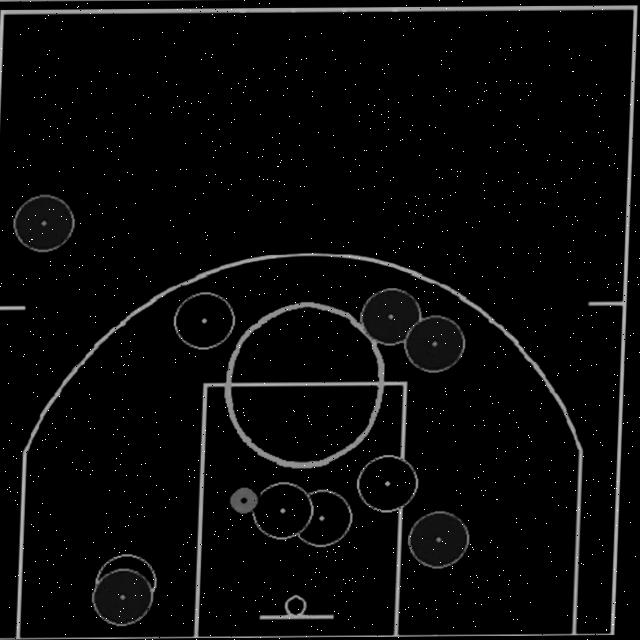Basketball: (230, 484, 262, 517)
Team_A: (96, 551, 164, 614), (358, 452, 424, 513), (253, 480, 317, 539), (176, 292, 239, 350)
Team_B: (92, 565, 161, 631), (408, 507, 477, 571), (400, 313, 469, 374), (358, 285, 426, 346), (176, 292, 239, 350), (14, 195, 78, 252), (295, 490, 358, 547)
